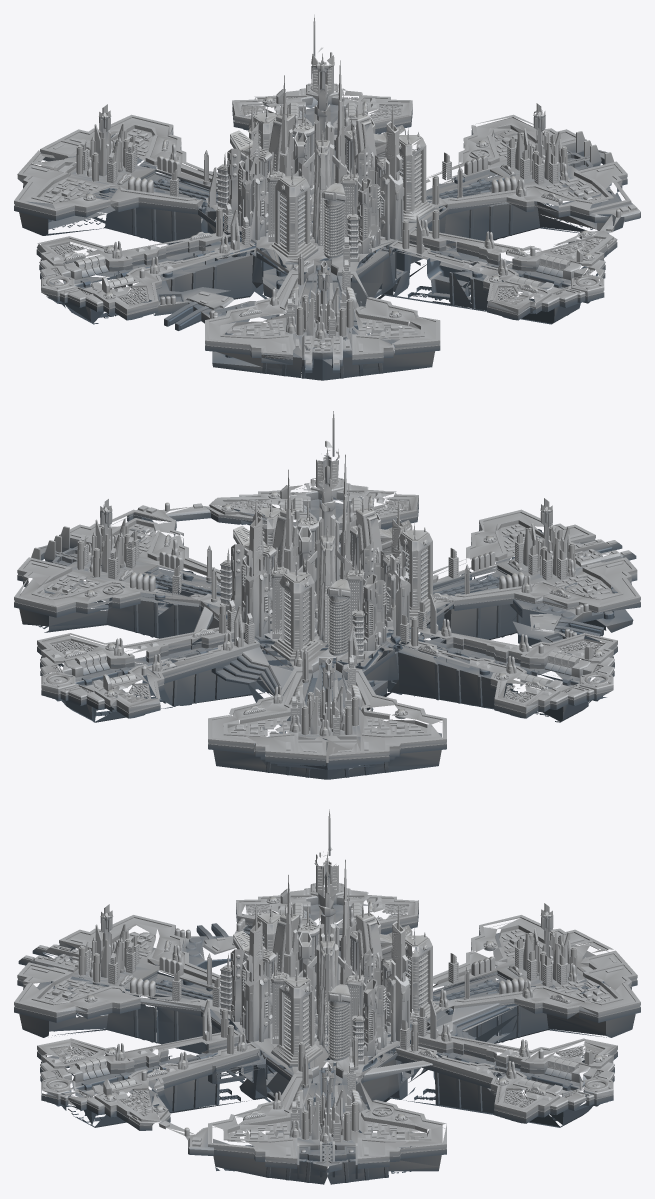
The model's file is atlantis_fern.glb.
3 views of the same model, one above another, from view 1: azimuth 30°, elevation 25°; view 2: azimuth 150°, elevation 25°; view 3: azimuth 270°, elevation 25° (orthographic).
Visible parts, largest first — view 1: K-1_0, K0_0, K2_0, K-1_-1, K0_1, K-2_-2, K-2_-3, K-1_1, K-2_0, K-2_2, K1_0, K-3_2 (+35 smaller); view 2: K-1_-1, K0_-1, K0_-2, K2_-1, K-1_0, K-2_-1, K-2_1, K-1_-2, K-2_-3, K-2_2, K-3_-3, K1_-1 (+36 smaller); view 3: K0_0, K0_-1, K3_0, K3_-1, K-1_-2, K-1_1, K-2_-3, K-2_2, K-1_-3, K1_-1, K-1_2, K1_1 (+33 smaller).
Boxes of the visible parts, x1,y1,x2,y2 form: K-1_0: (248,54,360,298); K0_0: (325,52,451,298); K2_0: (451,106,596,240); K-1_-1: (205,14,319,294); K0_1: (351,177,486,311); K-2_-2: (104,169,207,244); K-2_-3: (41,104,165,224); K-1_1: (294,184,389,308); K-2_0: (171,136,289,299); K-2_2: (262,260,372,368); K1_0: (400,132,515,265); K-3_2: (205,321,301,377); K-1_-1: (278,411,401,710); K0_-1: (215,459,325,695); K0_-2: (151,588,291,705); K2_-1: (50,499,197,638); K-1_0: (329,449,452,647); K-2_-1: (363,552,493,703); K-2_1: (435,564,558,639); K-1_-2: (248,564,357,726); K-2_-3: (275,658,390,762); K-2_2: (487,498,605,590); K-3_-3: (328,719,446,777); K1_-1: (143,525,260,690); K0_0: (235,852,331,1101); K0_-1: (323,865,415,1106); K3_0: (217,1072,330,1184); K3_-1: (325,1070,438,1184); K-1_-2: (406,927,521,1082); K-1_1: (140,930,244,1083); K-2_-3: (486,903,590,1006); K-2_2: (66,904,182,1016); K-1_-3: (466,977,606,1043); K1_-1: (323,991,432,1109); K-1_2: (49,977,181,1043); K1_1: (150,1048,264,1113).
Size of the model in its own units: 1248 by 569 by 1175.
